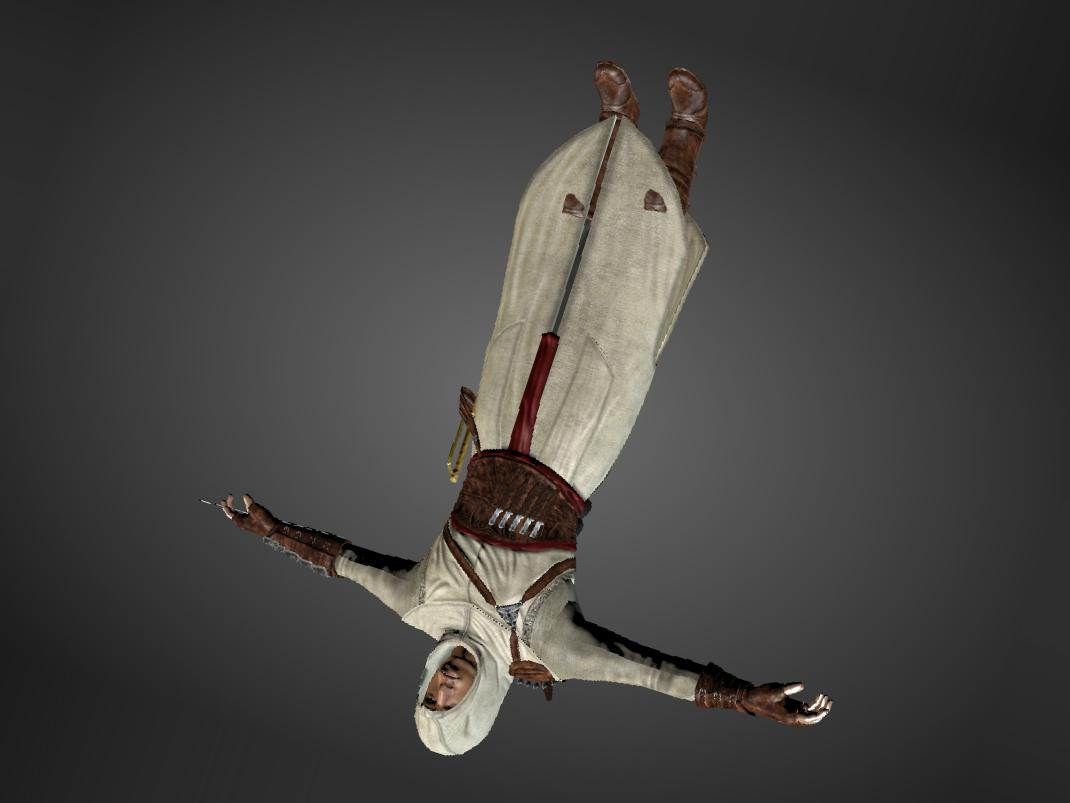clip: (554, 187, 588, 221), (642, 184, 670, 217)
